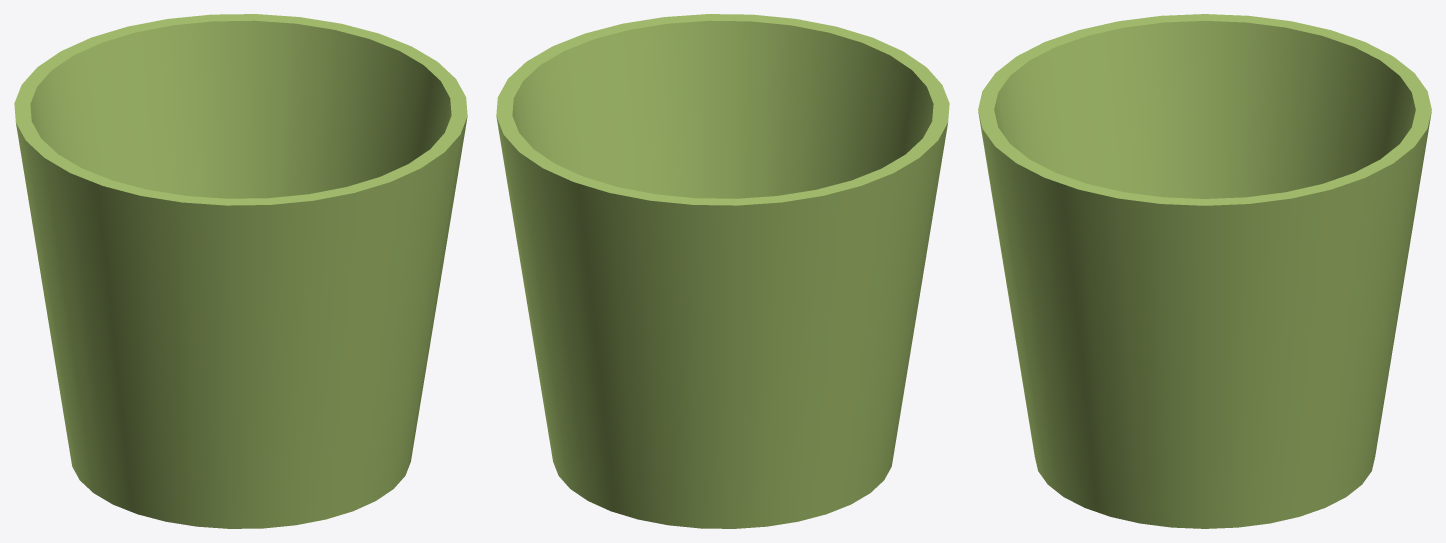
File: Pot_5.fbx
The picture shows the model from 3 angles, left to right: view 1: azimuth 30°, elevation 25°; view 2: azimuth 150°, elevation 25°; view 3: azimuth 270°, elevation 25°; orthographic projection.
Visible parts, largest first — view 1: pCylinder1792; view 2: pCylinder1792; view 3: pCylinder1792.
Part boxes in pixels (<box>): pCylinder1792: <box>14,14,467,528</box>; pCylinder1792: <box>496,14,949,528</box>; pCylinder1792: <box>978,14,1431,528</box>.
Bounding box in the file's own units: 10.75 × 9.07 × 10.75.
